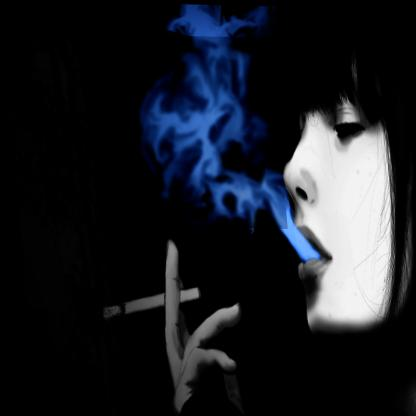smoke: (128, 34, 284, 228)
